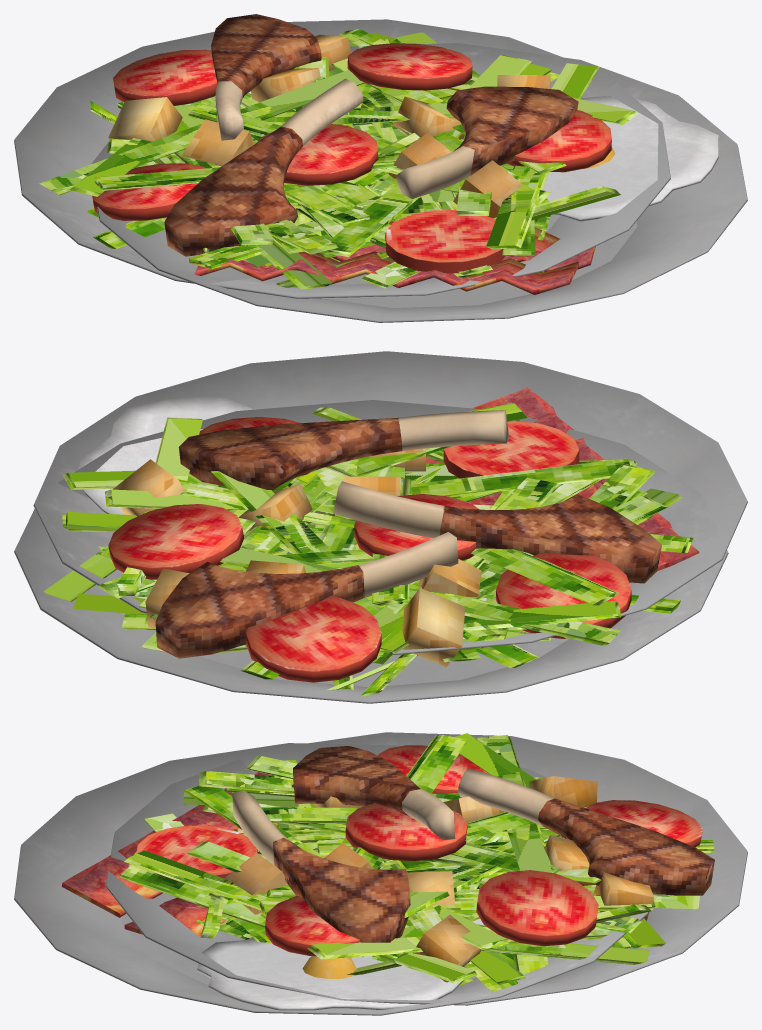
The model's file is food.fbx.
The picture shows the model from 3 angles, top to bottom: view 1: azimuth 30°, elevation 25°; view 2: azimuth 150°, elevation 25°; view 3: azimuth 270°, elevation 25°; orthographic projection. The views are drawn at different scales.
Visible parts, largest first — view 1: SM_ChefsFavourite_T_Breadcrumbs_0, SM_BaconAndEggs_T_Bacon_Cooked_0; view 2: SM_ChefsFavourite_T_Breadcrumbs_0, SM_BaconAndEggs_T_Bacon_Cooked_0; view 3: SM_ChefsFavourite_T_Breadcrumbs_0, SM_BaconAndEggs_T_Bacon_Cooked_0.
Part boxes in pixels (left/top/right/bottom): SM_ChefsFavourite_T_Breadcrumbs_0: left=14, top=14, right=670, bottom=298; SM_BaconAndEggs_T_Bacon_Cooked_0: left=91, top=43, right=747, bottom=322; SM_ChefsFavourite_T_Breadcrumbs_0: left=14, top=400, right=728, bottom=703; SM_BaconAndEggs_T_Bacon_Cooked_0: left=33, top=351, right=747, bottom=654; SM_ChefsFavourite_T_Breadcrumbs_0: left=105, top=732, right=747, bottom=1005; SM_BaconAndEggs_T_Bacon_Cooked_0: left=14, top=743, right=648, bottom=1015.
Bounding box in the file's own units: 126 × 20.37 × 138.
Materials: 7 (7 with a texture image).
